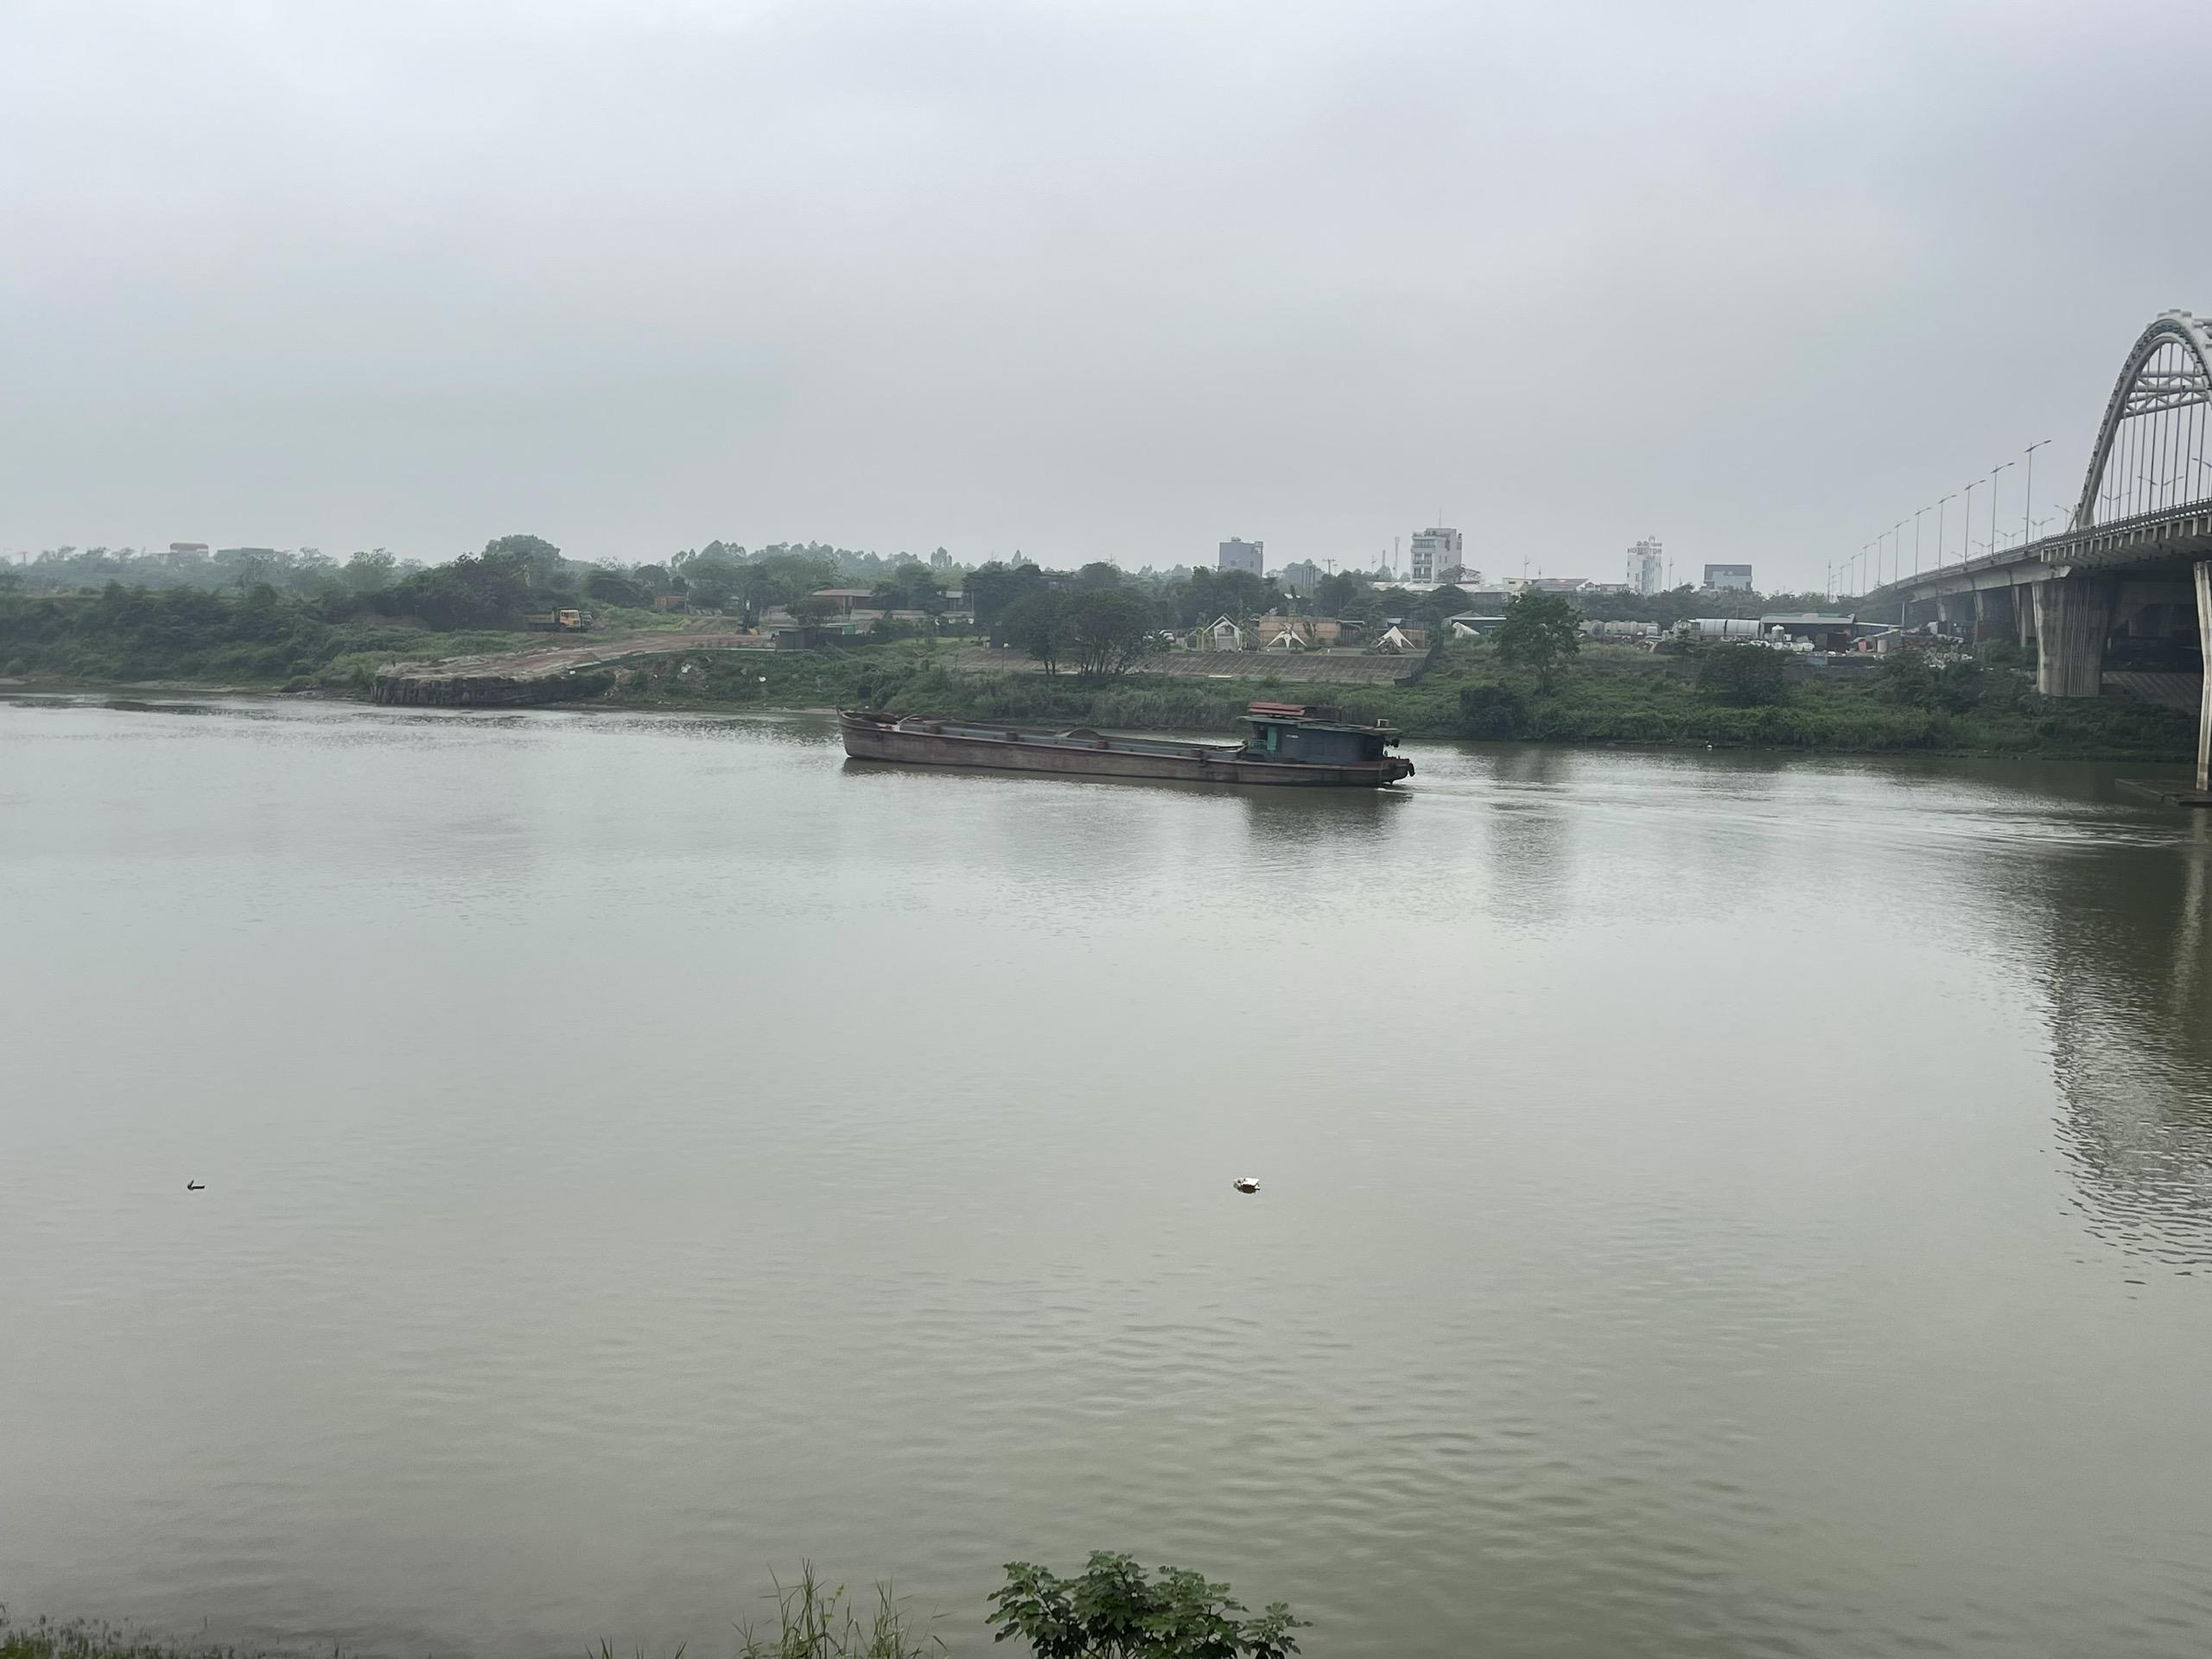Ship: (838, 685, 1428, 800)
